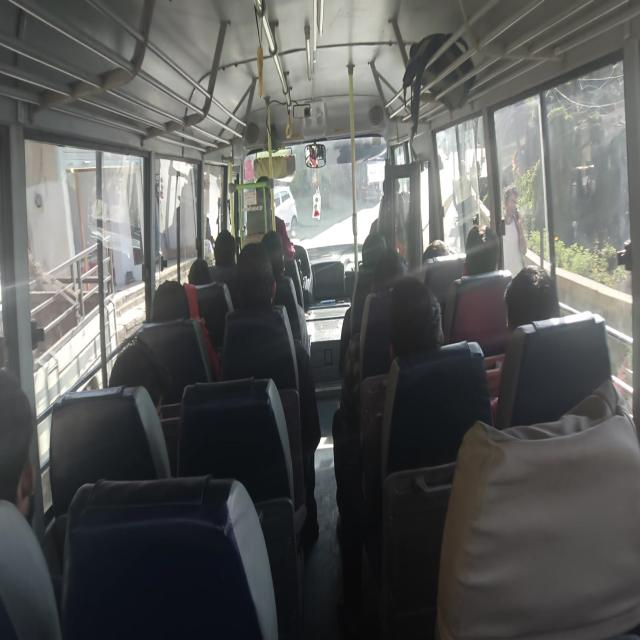person: (436, 376, 640, 638), (334, 274, 445, 632), (221, 241, 321, 544), (0, 366, 62, 638), (109, 278, 219, 416), (486, 265, 560, 424), (260, 229, 310, 356), (0, 366, 36, 519), (504, 265, 560, 331), (500, 185, 527, 278), (209, 228, 238, 305), (462, 224, 499, 276), (187, 258, 214, 286), (422, 239, 452, 262)
